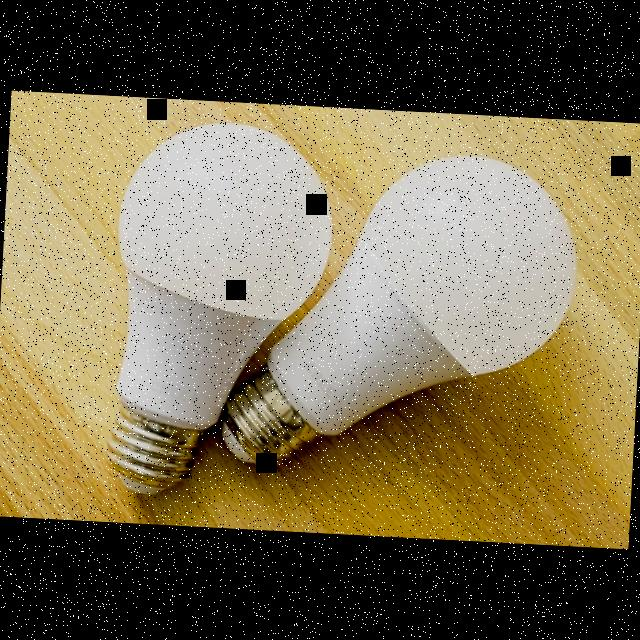light_bulb: (216, 144, 585, 474), (98, 120, 332, 524)
